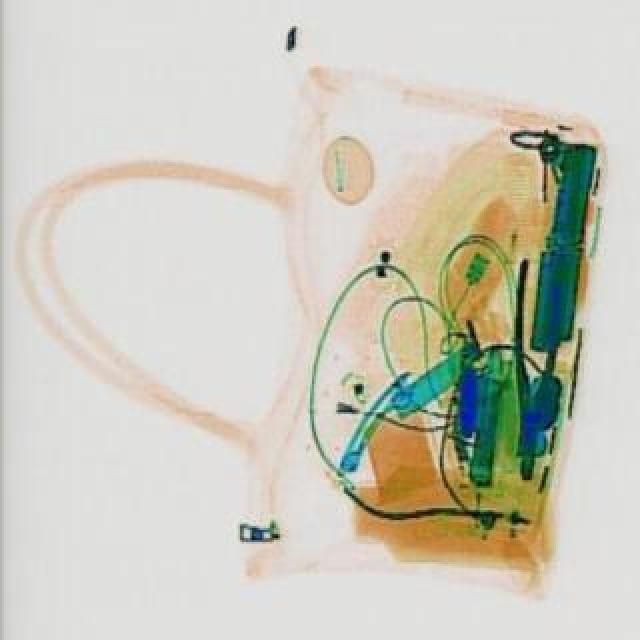wrench: (502, 266, 562, 488)
